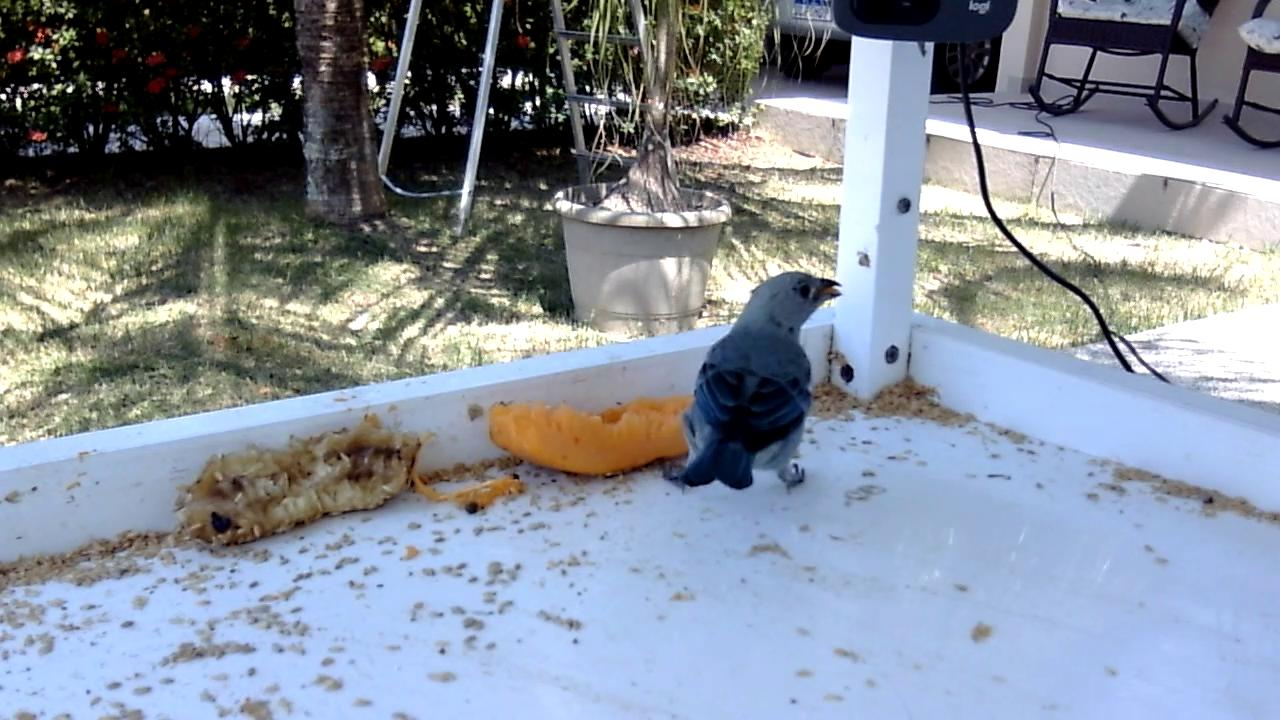sanhaco_da_amazonia: (662, 270, 844, 492)
